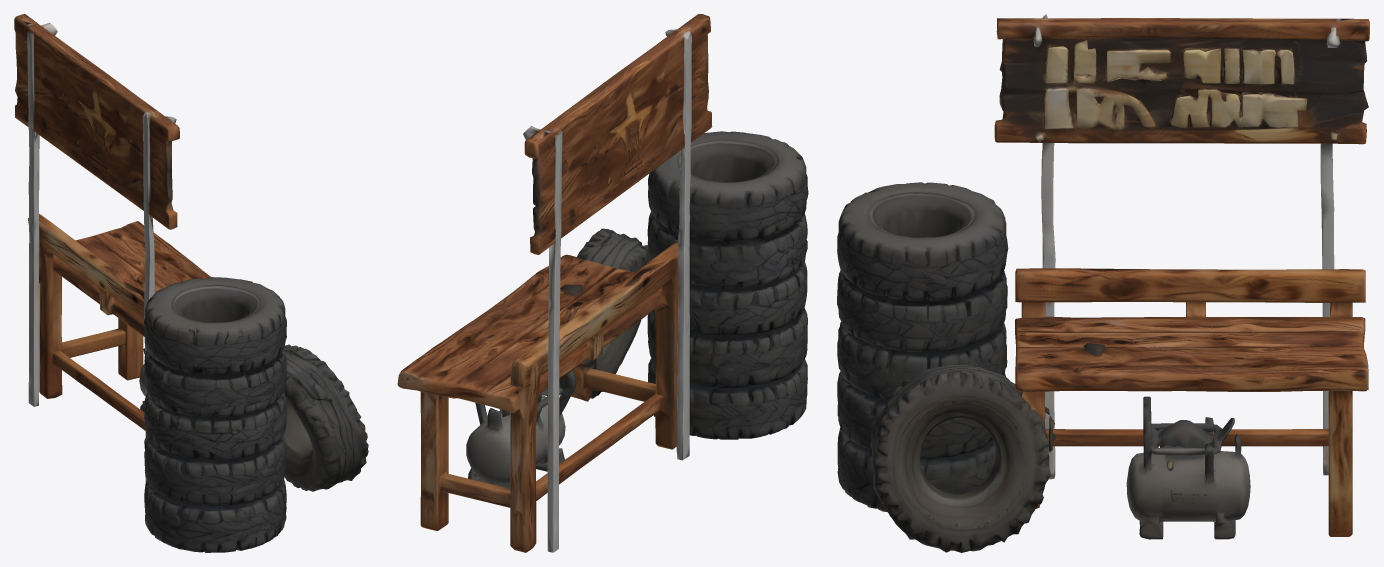
Rendered from vulcaniser.glb.
3 views of the same model, side by side, from view 1: azimuth 30°, elevation 25°; view 2: azimuth 150°, elevation 25°; view 3: azimuth 270°, elevation 25° (orthographic). The views are drawn at different scales.
Parts seen in each view (by area): view 1: tripo_node_41029fd0-cc78-4a9b-afdd-b82e2ebb6d98; view 2: tripo_node_41029fd0-cc78-4a9b-afdd-b82e2ebb6d98; view 3: tripo_node_41029fd0-cc78-4a9b-afdd-b82e2ebb6d98.
Boxes of the visible parts, x1=… form: tripo_node_41029fd0-cc78-4a9b-afdd-b82e2ebb6d98: x1=14, y1=14, x2=368, y2=552; tripo_node_41029fd0-cc78-4a9b-afdd-b82e2ebb6d98: x1=397, y1=14, x2=808, y2=552; tripo_node_41029fd0-cc78-4a9b-afdd-b82e2ebb6d98: x1=837, y1=14, x2=1369, y2=552.
Bounding box in the file's own units: 1.87 × 3.34 × 3.5.
1 material, 1 textured.
